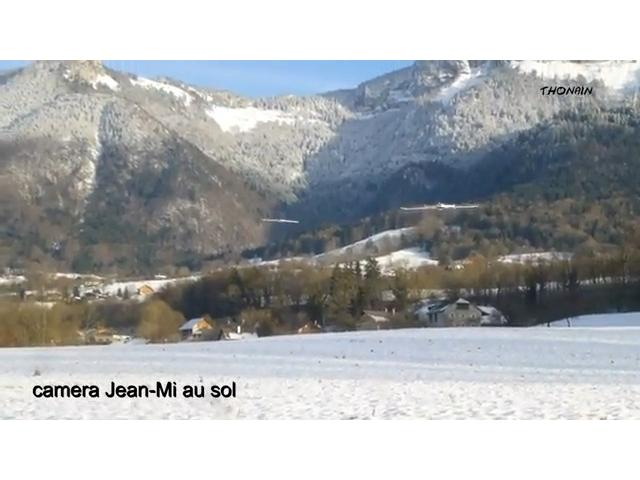Anti-Drone: (403, 204, 477, 210)
